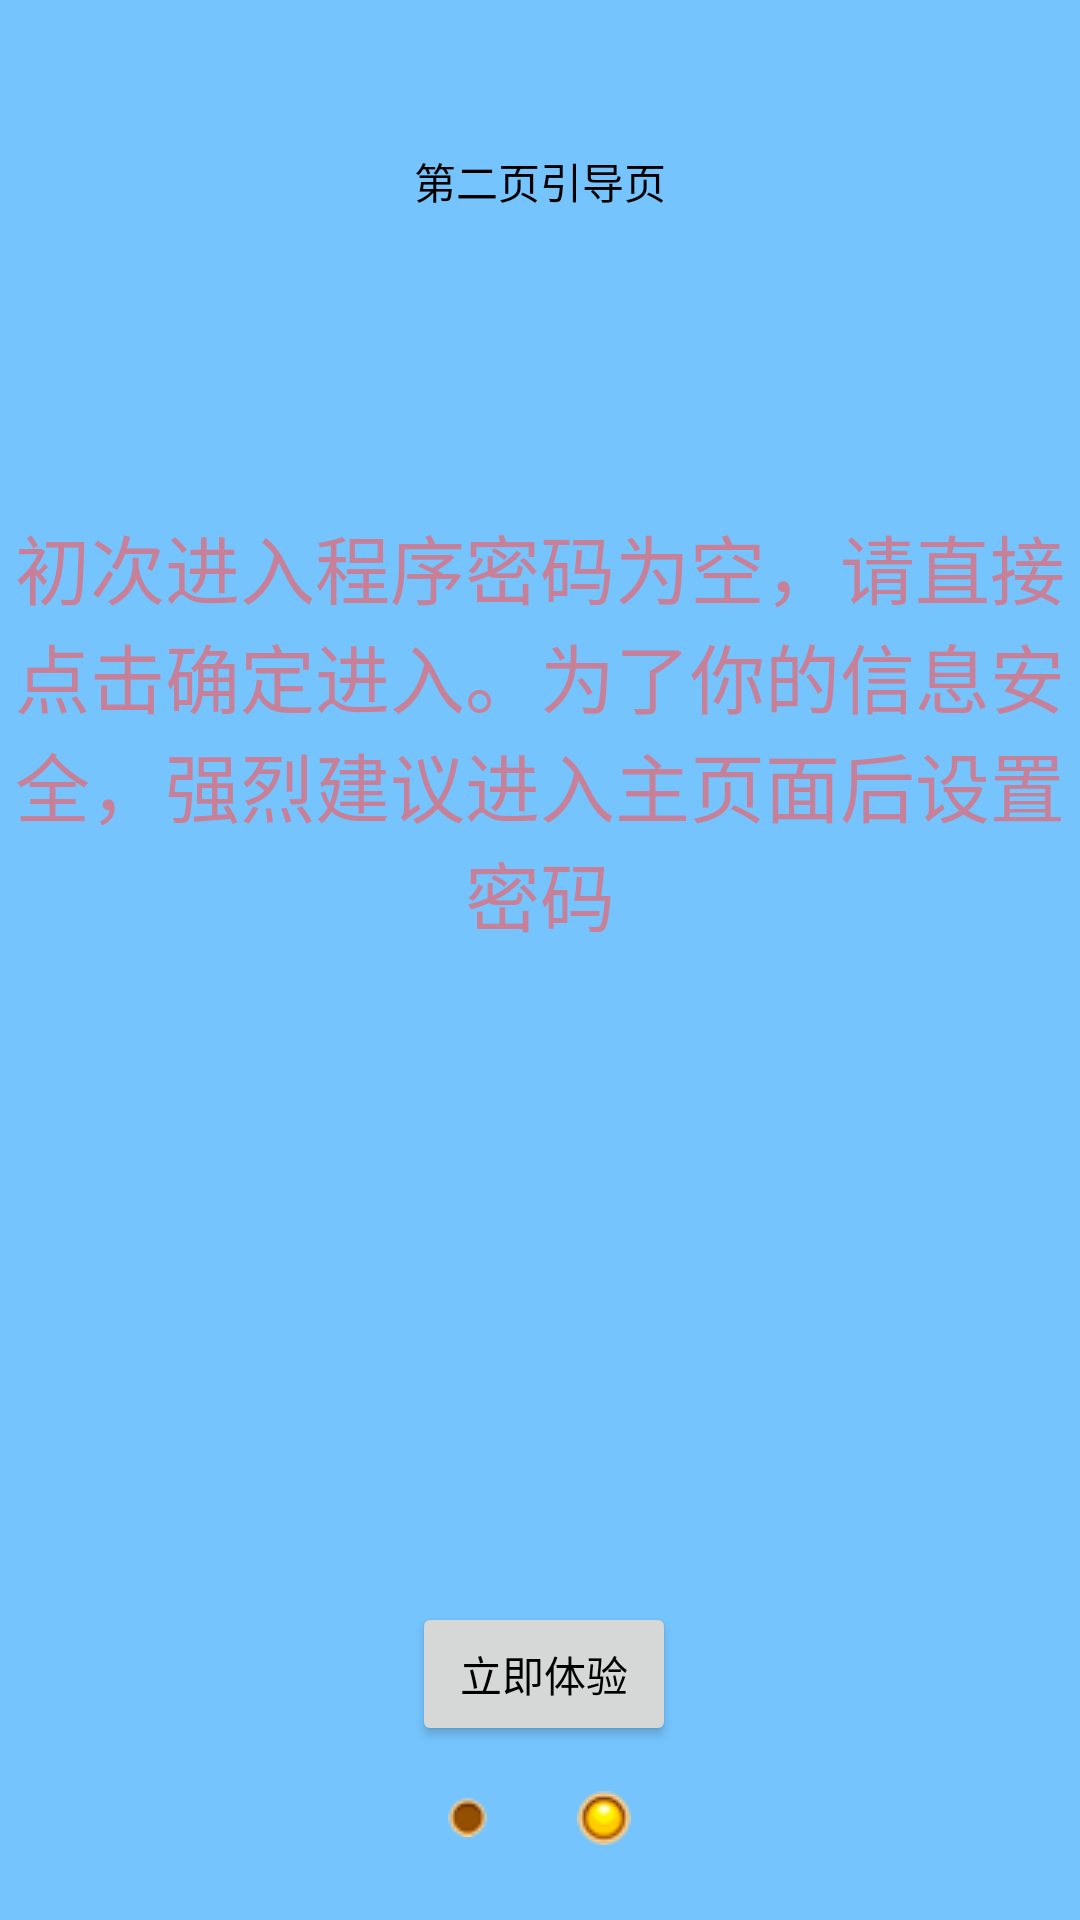

Screen size 1080×1920. Icon name, then its box in pixels as (x1, y1, x2, y2):
ball: (448, 1798, 487, 1837)
balle: (577, 1791, 631, 1845)
